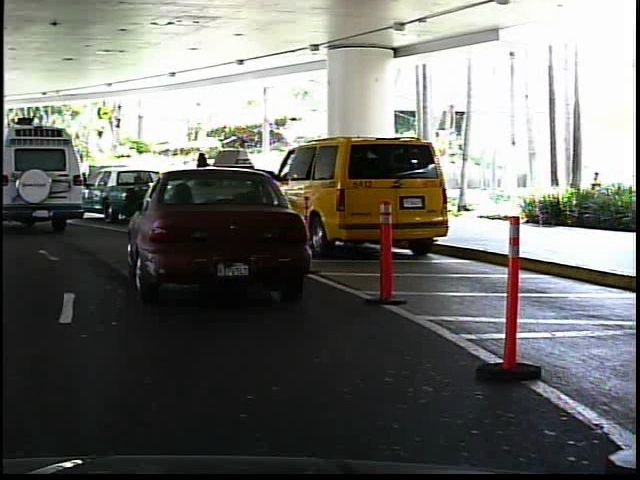person: (189, 145, 218, 214), (226, 142, 252, 212), (72, 150, 93, 201), (9, 158, 29, 196)
